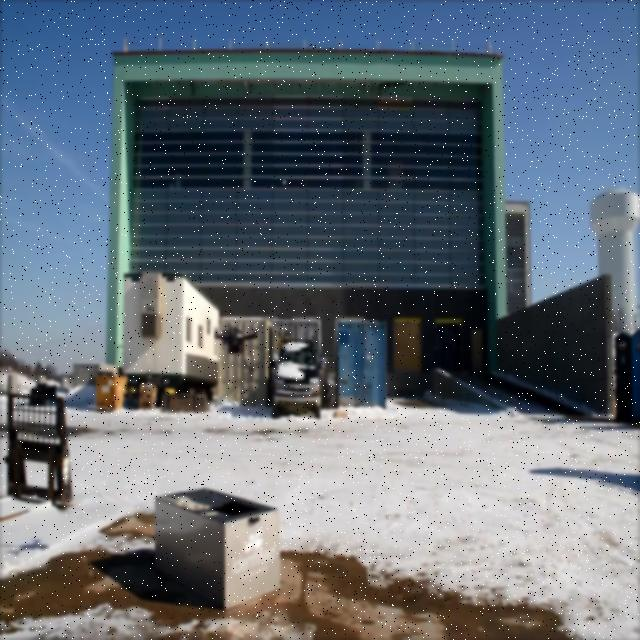UAV: (214, 328, 258, 354)
